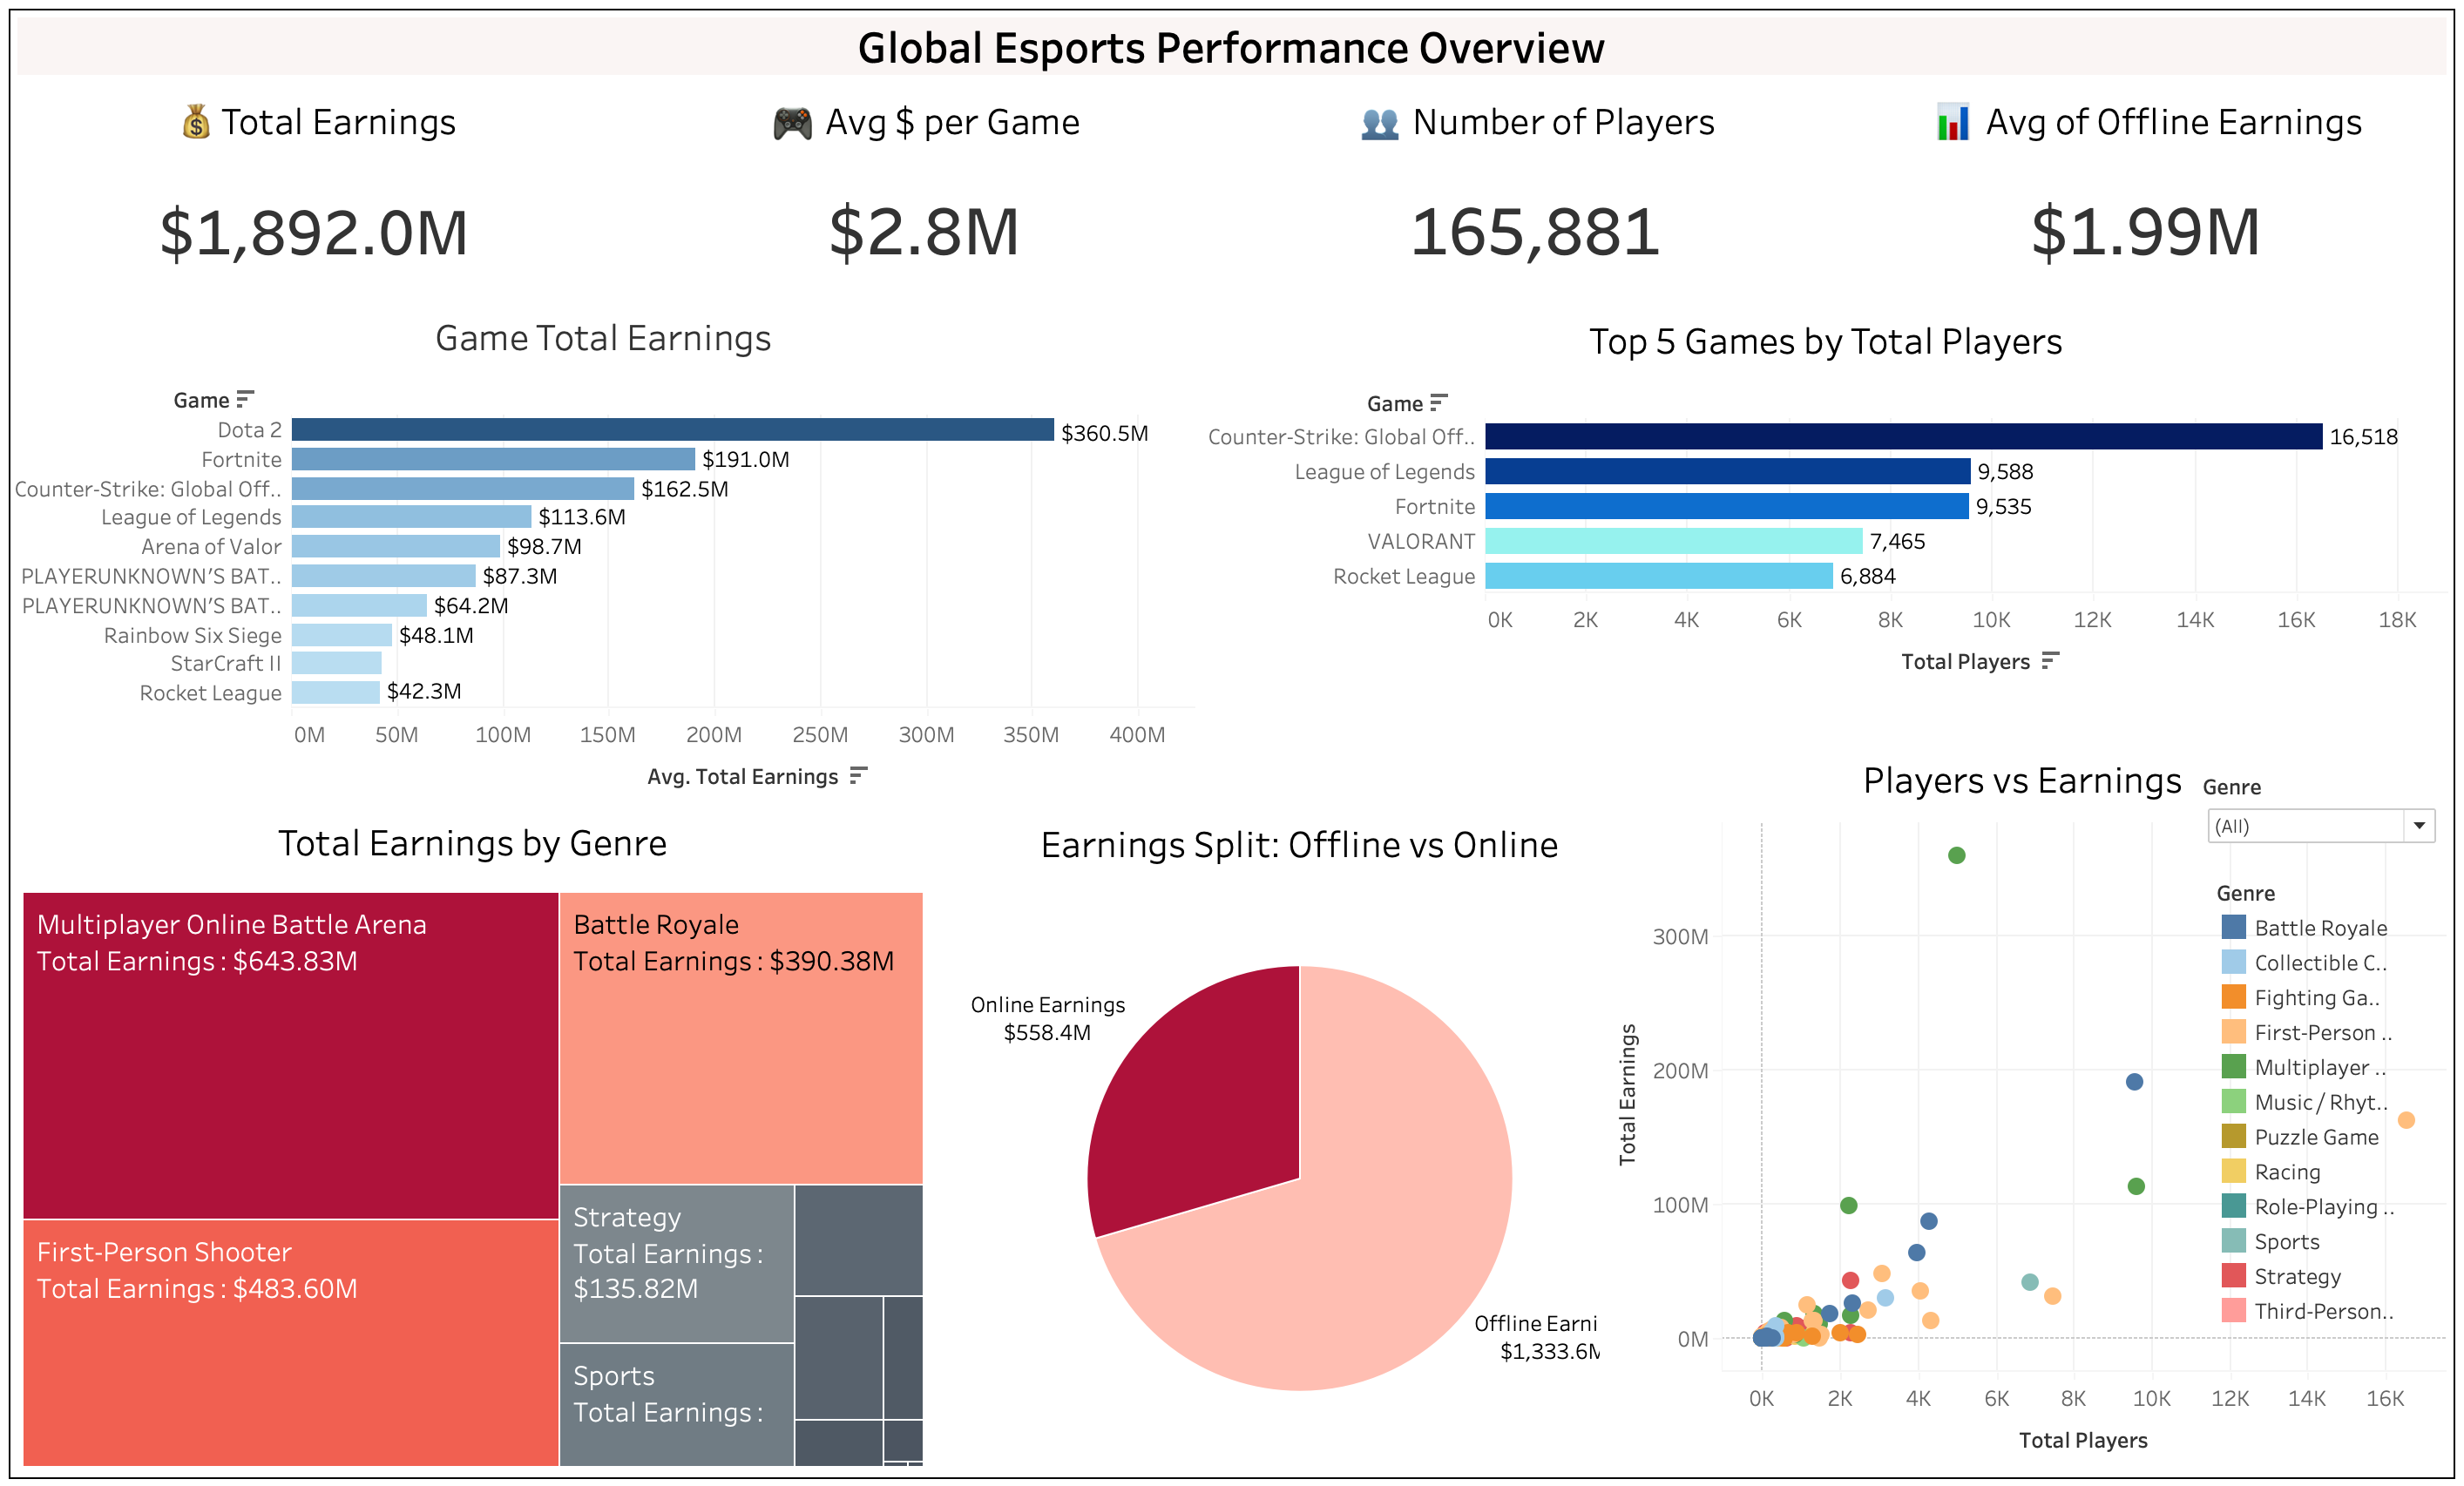

The page's visual inventory and layout, read from the dashboard file:
{"tool":"tableau","page":{"name":"Dashboard 1","canvas":[1000,1000],"units":"permille","ordinal":0},"visuals":[{"type":"title","box":[6.3,10.5,987.3,47.7]},{"type":"worksheet","title":"KPI 1","mark":"Automatic","box":[6.3,58.1,246.8,147.2]},{"type":"worksheet","title":"KPI 2","mark":"Automatic","box":[253.2,58.1,246.8,147.2]},{"type":"worksheet","title":"KPI 3","mark":"Automatic","box":[500,58.1,246.8,147.2]},{"type":"worksheet","title":"KPI 4","mark":"Automatic","box":[746.8,58.1,246.8,147.2]},{"type":"worksheet","title":"Game Total Earnings","mark":"Automatic","rows":["Game"],"cols":["TotalEarnings"],"box":[7,207,478.2,332.6]},{"type":"worksheet","title":"Top 10 Games by Total Players","mark":"Automatic","rows":["Game"],"cols":["TotalPlayers"],"box":[489.4,209.3,502.1,276.7]},{"type":"worksheet","title":"Players vs Earnings","mark":"Circle","rows":["TotalEarnings"],"cols":["TotalPlayers"],"box":[653.5,502.3,337.3,483.7]},{"type":"filter","title":"Players vs Earnings","param":"[federated.1fnfdd20euahqz1dq8mmn0my7afx].[none:Genre:nk]","box":[892.2,518.6,96.5,51.2]},{"type":"worksheet","title":"Genre Earnings","mark":"Automatic","box":[8.4,544.2,369.7,443]},{"type":"worksheet","title":"Earnings Split: Offline vs Online","mark":"Pie","box":[380.3,545.4,271.1,439.5]},{"type":"legend","title":"Players vs Earnings","param":"[federated.1fnfdd20euahqz1dq8mmn0my7afx].[none:Genre:nk]","box":[897.9,589.5,87.3,297.7]}]}

Visuals, with their boxes on the dashboard's canvas, which has no fixed pixel size, in thousandths of its width and height (x1, y1, x2, y2). These are canvas units, not pixel positions in the 2464x1486 screenshot, which may show the page scaled, cropped or inside an application window:
title: {"x1": 6, "y1": 10, "x2": 994, "y2": 58}
"KPI 1" worksheet: {"x1": 6, "y1": 58, "x2": 253, "y2": 205}
"KPI 2" worksheet: {"x1": 253, "y1": 58, "x2": 500, "y2": 205}
"KPI 3" worksheet: {"x1": 500, "y1": 58, "x2": 747, "y2": 205}
"KPI 4" worksheet: {"x1": 747, "y1": 58, "x2": 994, "y2": 205}
"Game Total Earnings" worksheet: {"x1": 7, "y1": 207, "x2": 485, "y2": 540}
"Top 10 Games by Total Players" worksheet: {"x1": 489, "y1": 209, "x2": 992, "y2": 486}
"Players vs Earnings" worksheet (Circle marks): {"x1": 654, "y1": 502, "x2": 991, "y2": 986}
"Players vs Earnings" filter: {"x1": 892, "y1": 519, "x2": 989, "y2": 570}
"Genre Earnings" worksheet: {"x1": 8, "y1": 544, "x2": 378, "y2": 987}
"Earnings Split: Offline vs Online" worksheet (Pie marks): {"x1": 380, "y1": 545, "x2": 651, "y2": 985}
"Players vs Earnings" legend: {"x1": 898, "y1": 590, "x2": 985, "y2": 887}
